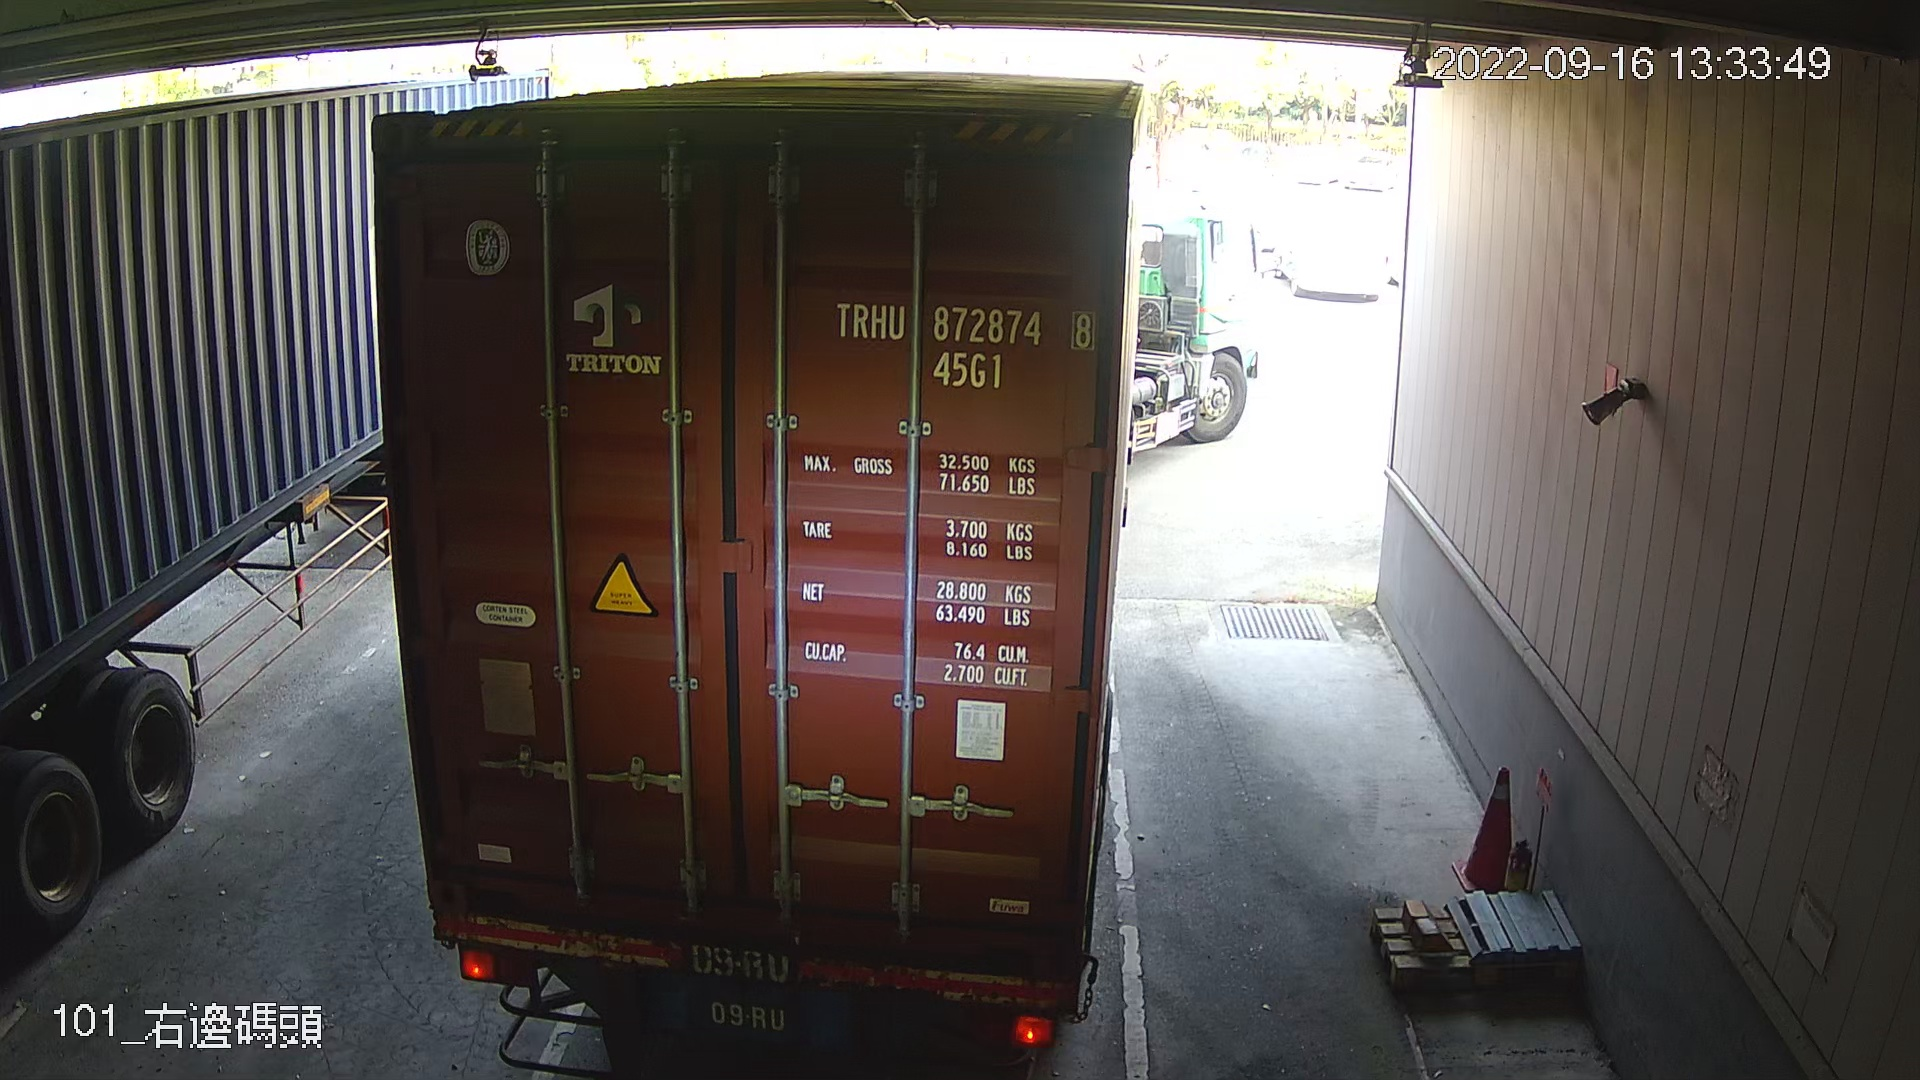container: (820, 284, 1109, 402)
